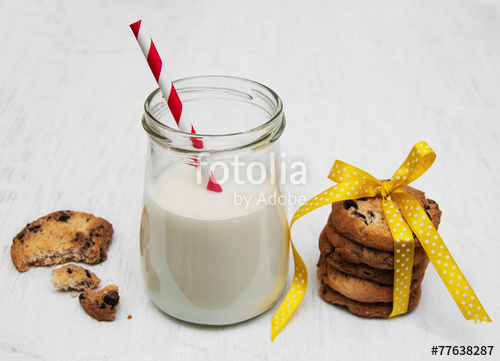glass of milk: (134, 82, 298, 330)
